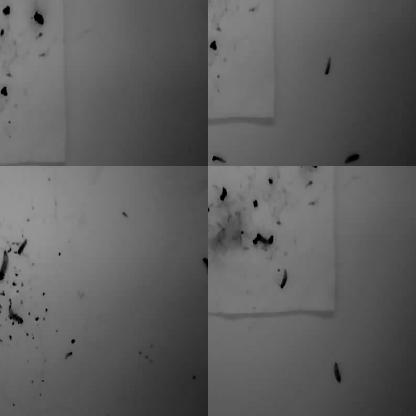PtecticusTenebrifer: (277, 267, 290, 291), (0, 250, 10, 281), (344, 153, 361, 166), (255, 233, 273, 245), (210, 154, 227, 166), (9, 312, 24, 324), (326, 53, 333, 77), (334, 361, 341, 384), (18, 238, 28, 254), (202, 256, 208, 274), (208, 6, 215, 21), (208, 184, 212, 208), (0, 356, 4, 377), (0, 178, 6, 191), (0, 0, 11, 7), (307, 0, 314, 11), (0, 299, 6, 311), (321, 0, 327, 11), (208, 0, 216, 8), (208, 217, 211, 238), (274, 0, 279, 12), (2, 0, 10, 6), (108, 166, 124, 169), (0, 231, 6, 239), (0, 0, 8, 5), (0, 166, 8, 170), (208, 0, 213, 5)
